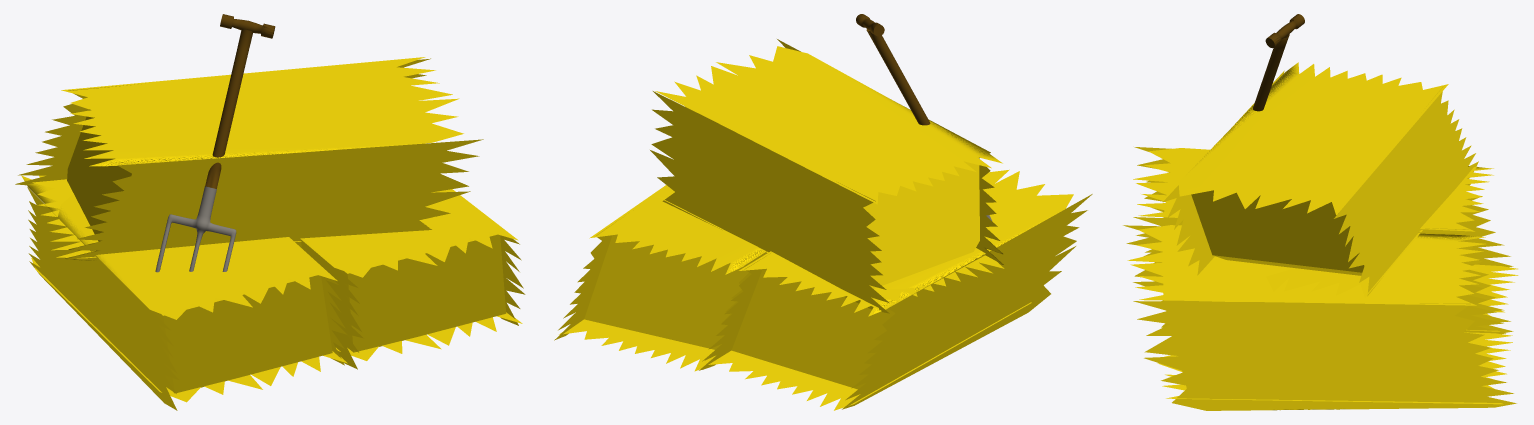
File: haystacktex.FBX
3 renders of one model, left to right at view 1: azimuth 30°, elevation 25°; view 2: azimuth 150°, elevation 25°; view 3: azimuth 270°, elevation 25°, orthographic. The views are drawn at different scales.
Parts seen in each view (by area): view 1: Line005, Cylinder01; view 2: Line005, Cylinder01; view 3: Line005, Cylinder01.
Boxes of the visible parts, x1,y1,x2,y2 form: Line005: (15, 57, 525, 410); Cylinder01: (155, 14, 275, 272); Line005: (554, 39, 1092, 410); Cylinder01: (856, 14, 991, 220); Line005: (1123, 62, 1518, 410); Cylinder01: (1252, 14, 1304, 111).
Size of the model in its own units: 128 by 102 by 125.
2 materials, 2 textured.
